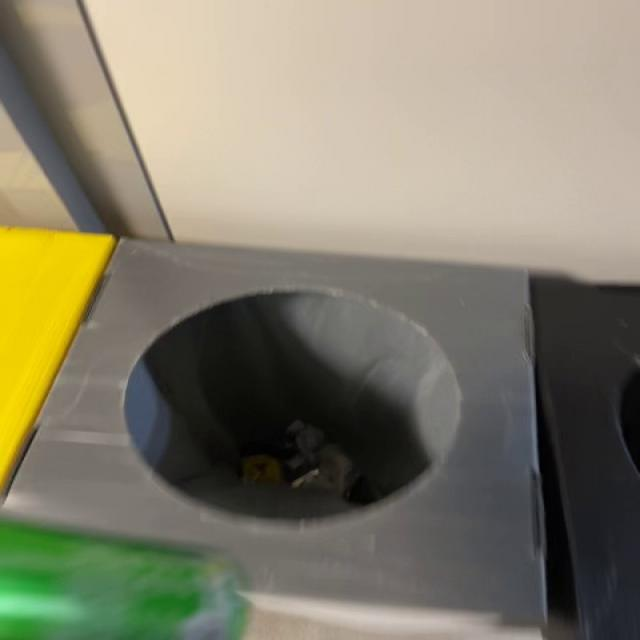bin: (4, 241, 547, 624)
metal: (1, 522, 244, 640)
